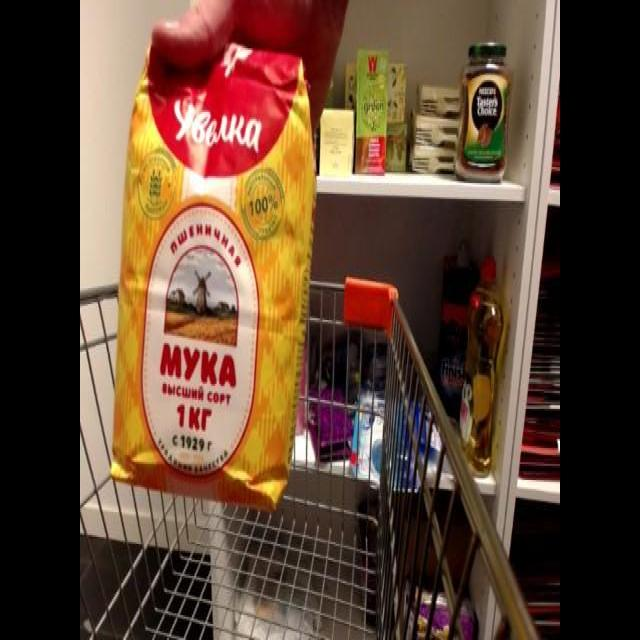Flour: (107, 24, 317, 515)
